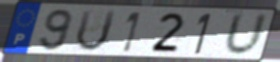1: (122, 11, 143, 53), (194, 12, 213, 56)
2: (149, 12, 188, 55)
9: (37, 8, 74, 53)
U: (222, 11, 270, 59), (73, 9, 119, 53)
